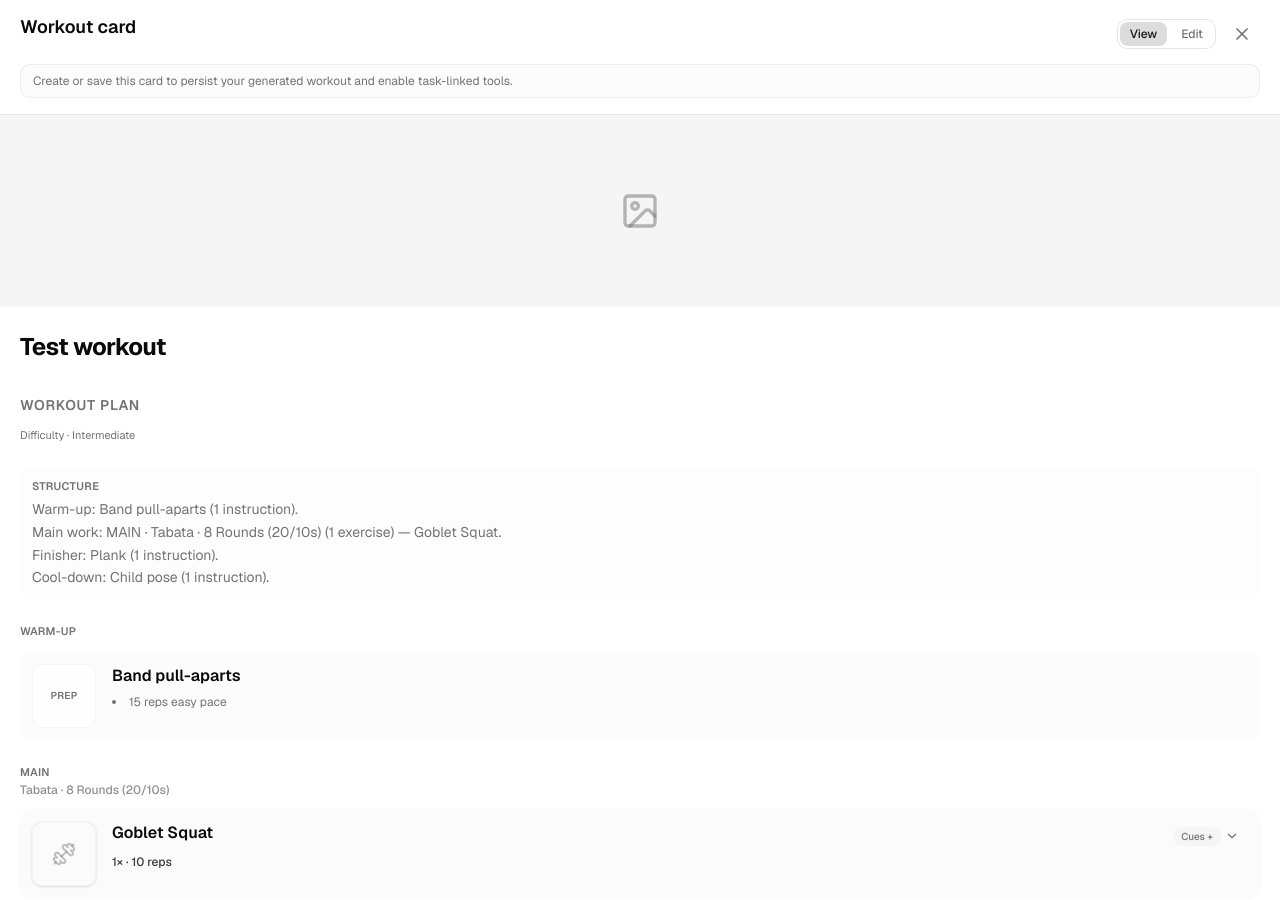
it: WorkoutViewerContent edit mode › renders WorkoutBlockListEditor for rich tabata in edit mode
Click the button "Edit" at [1192, 34], box [1171, 22, 1213, 46]
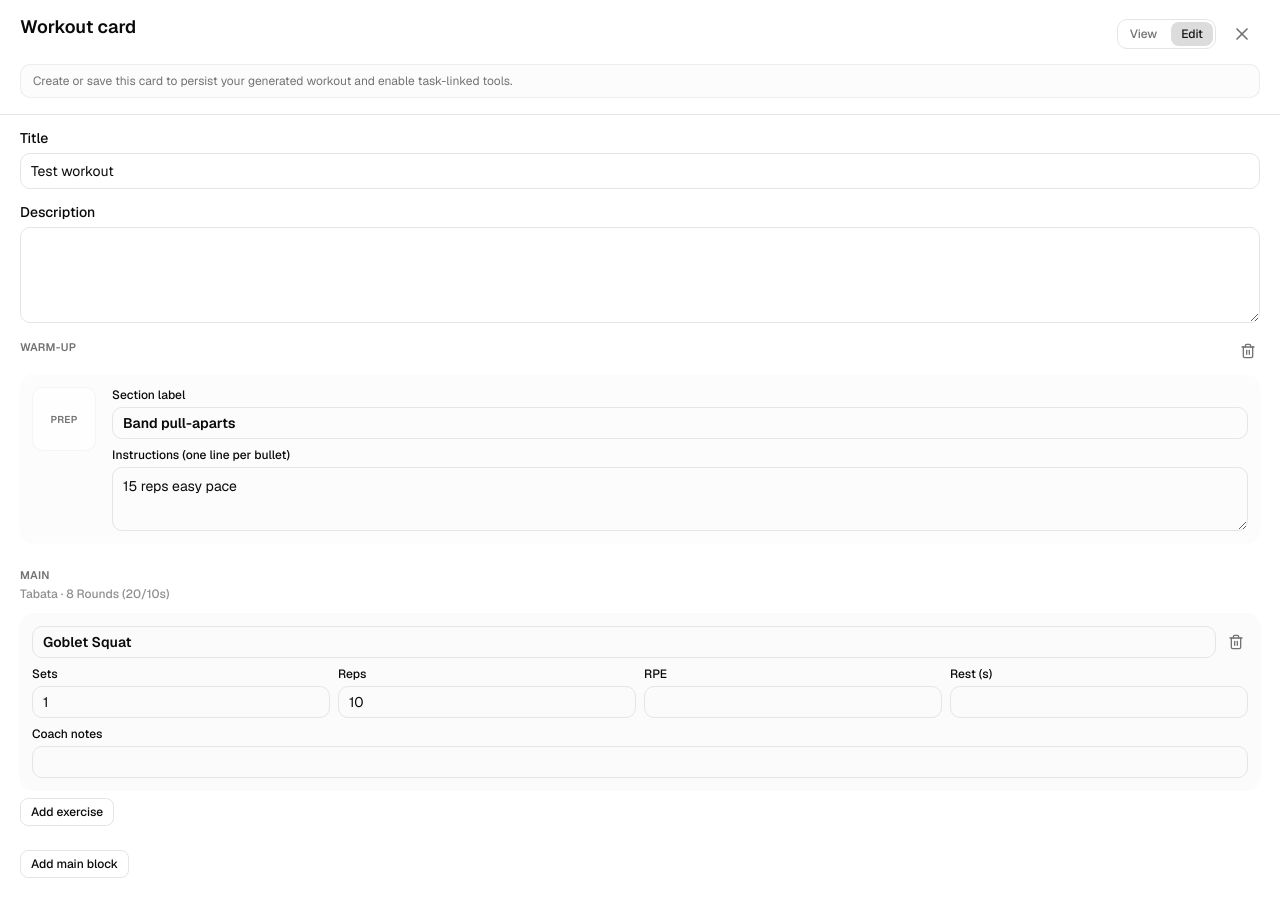
Expected: the heading "MAIN" is shown, [20, 568, 50, 582]
Expected: the field named "Exercise name" is shown, [32, 626, 1216, 658]
